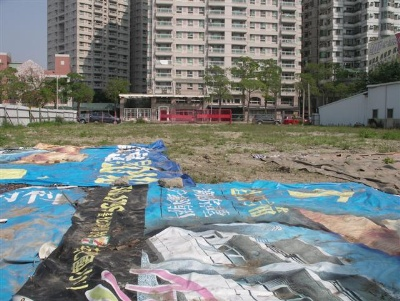plastic_bag: (1, 139, 193, 301), (148, 183, 400, 300)
